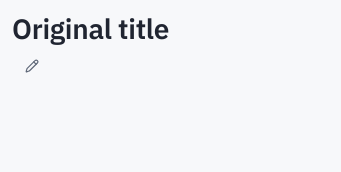
Test: T079 edits inline from the keyboard, saves on Enter and cancels on Escape
Click the button named "Add label": (32, 66) [12,46,52,86]
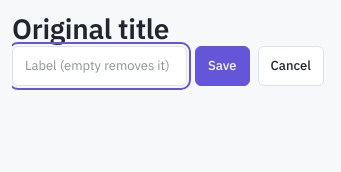
Press Escape in the field named "c9view label", box [12,46,187,86]
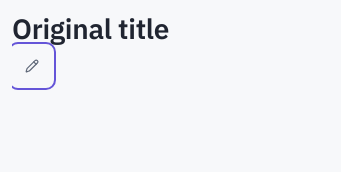
Result: the field is gone
Click the button named "Add label": (32, 66) [12,46,52,86]
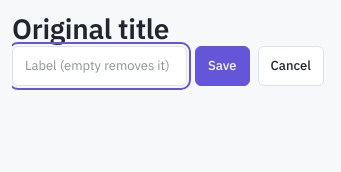
In the field named "c9view label": (100, 66) [12,46,187,86], type "  Renamed "
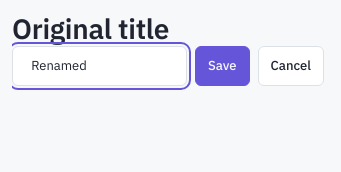
Submit the form named "c9view label", box [11,46,324,86]
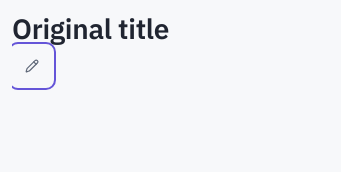
Result: the field is gone
